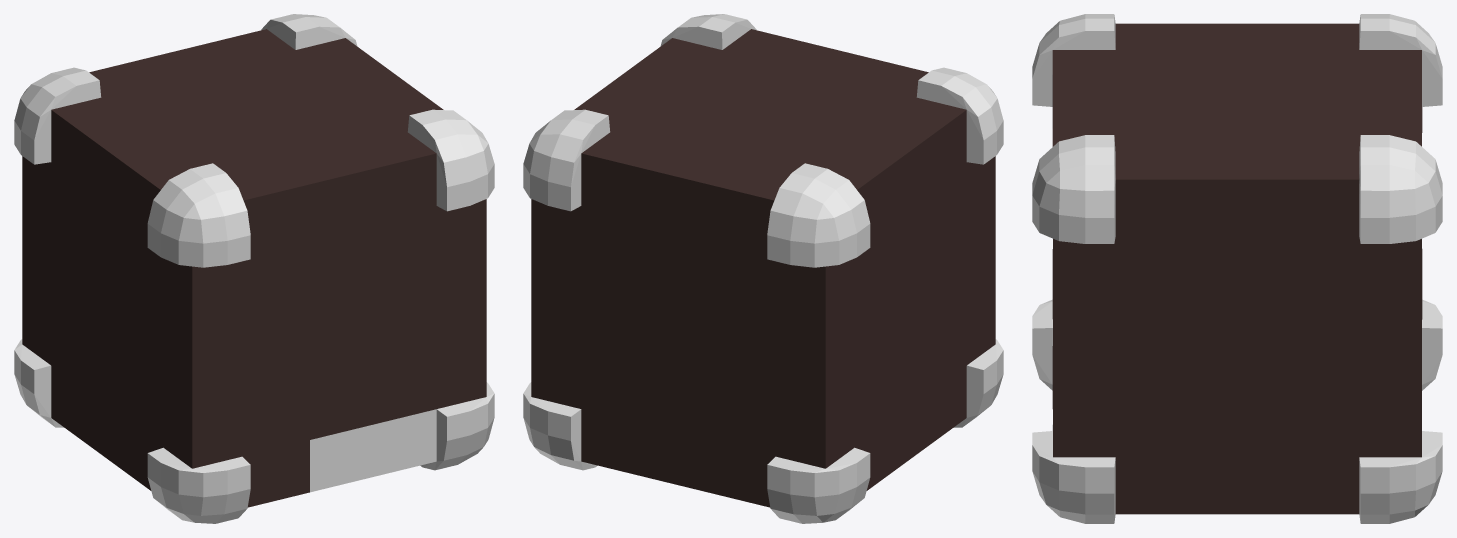
The model's file is LP_GPE_FallingBlock.fbx.
3 views of the same model, side by side, from view 1: azimuth 30°, elevation 25°; view 2: azimuth 150°, elevation 25°; view 3: azimuth 270°, elevation 25° (orthographic). The views are drawn at different scales.
Parts seen in each view (by area): view 1: Cube; view 2: Cube; view 3: Cube.
Boxes of the visible parts, x1,y1,x2,y2 form: Cube: [14, 14, 494, 523]; Cube: [523, 14, 1003, 523]; Cube: [1032, 14, 1442, 523].
Size of the model in its own units: 100 by 100 by 100.
